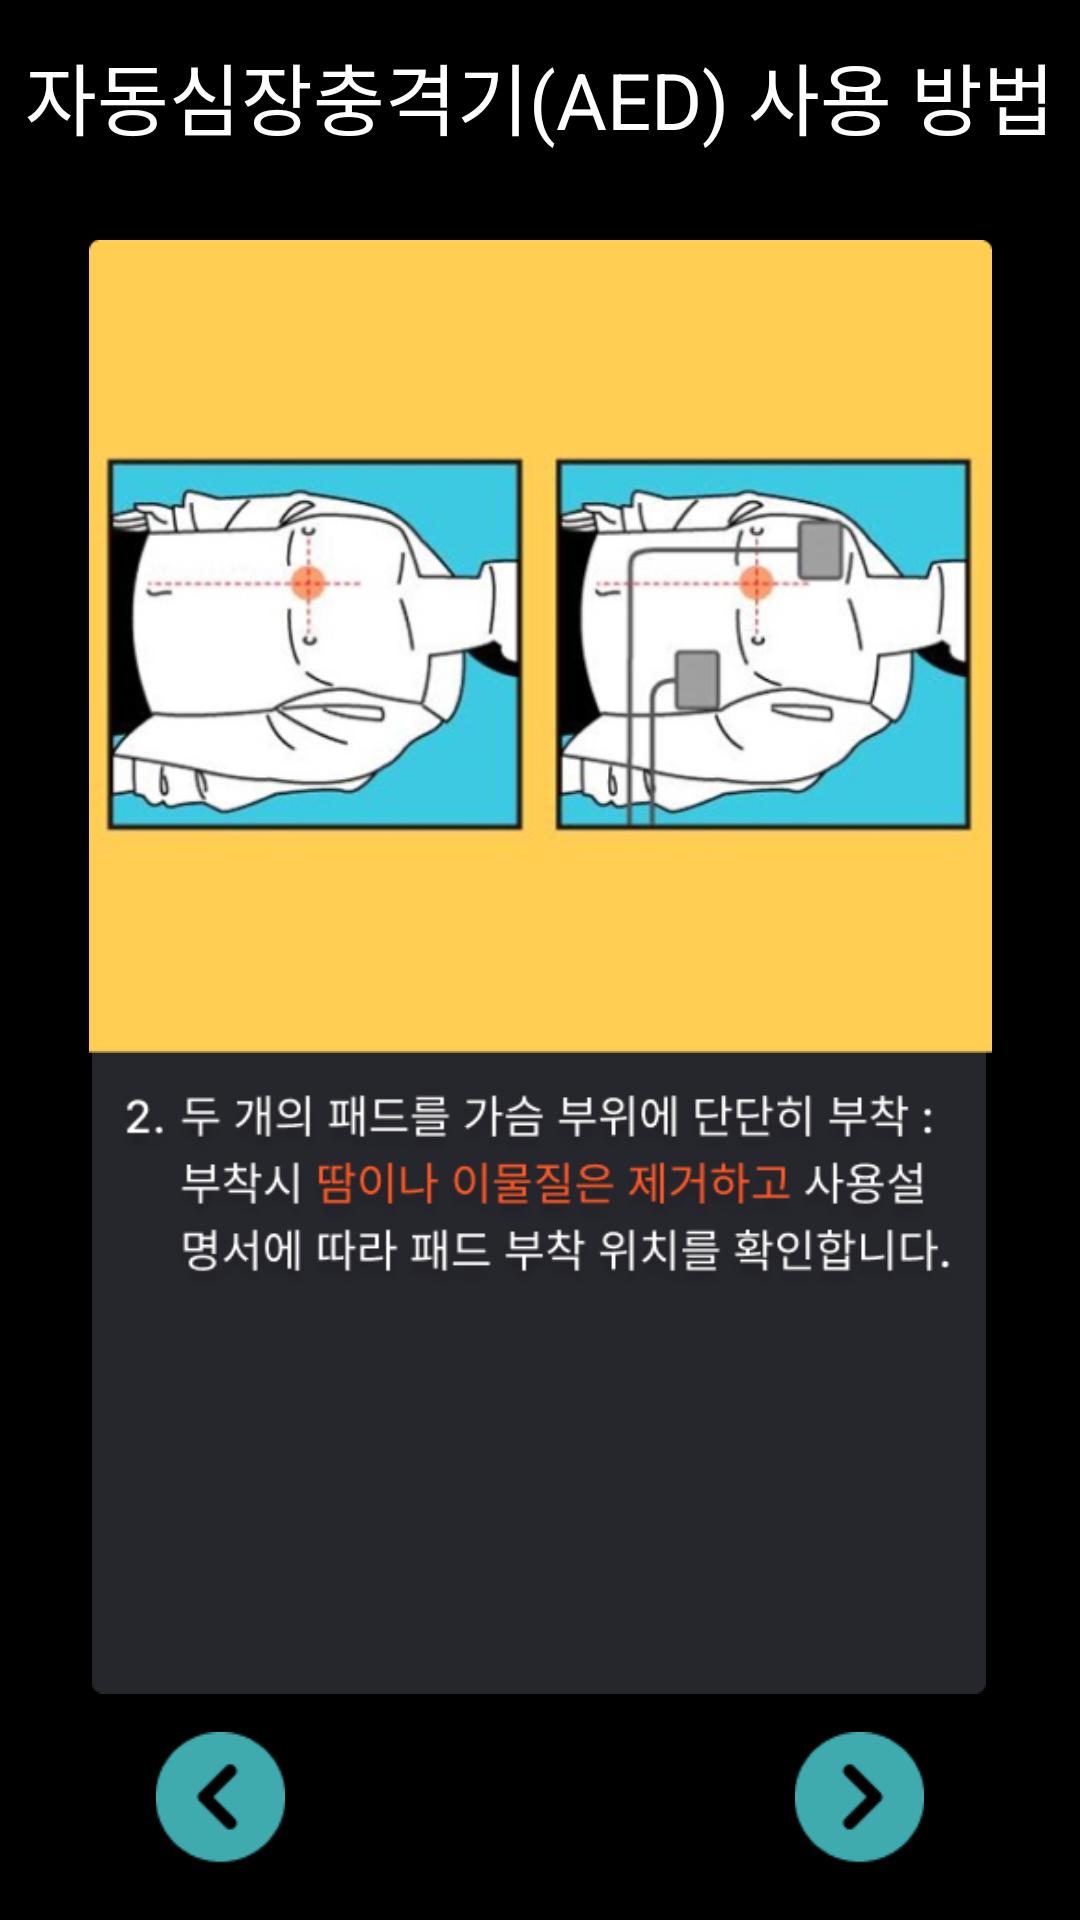

Named icons in this screenshot (1080*1920) and their centers, (x,y):
edu next page: (859,1797)
edu previous page: (220,1797)
